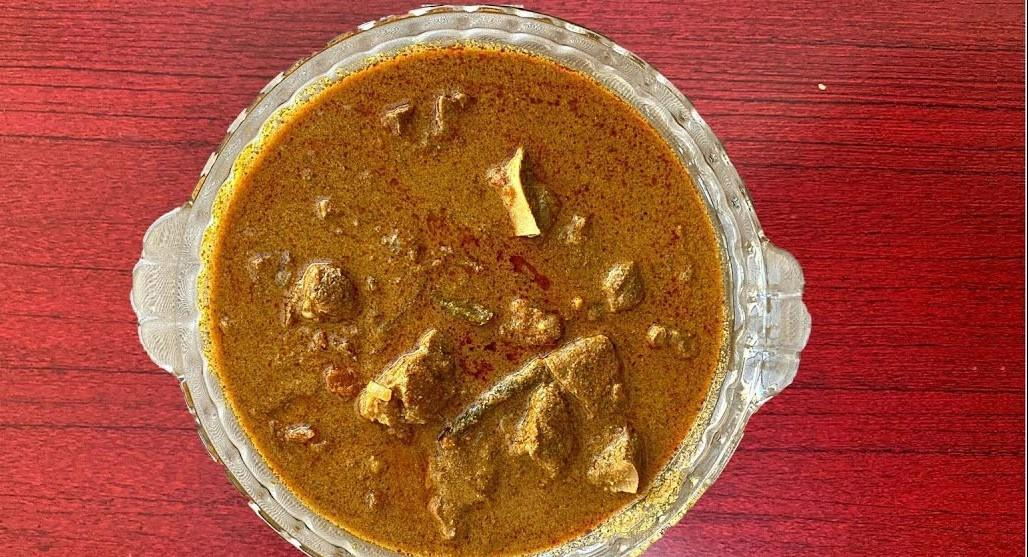MuttonCurry: (210, 49, 725, 557)
